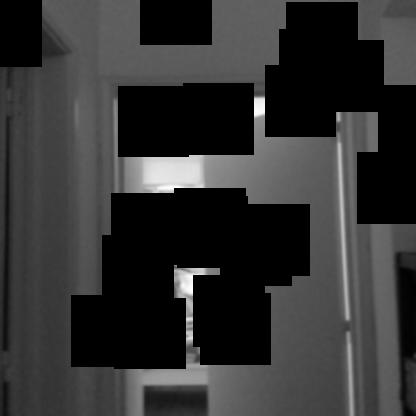Porte: (94, 69, 377, 415)
